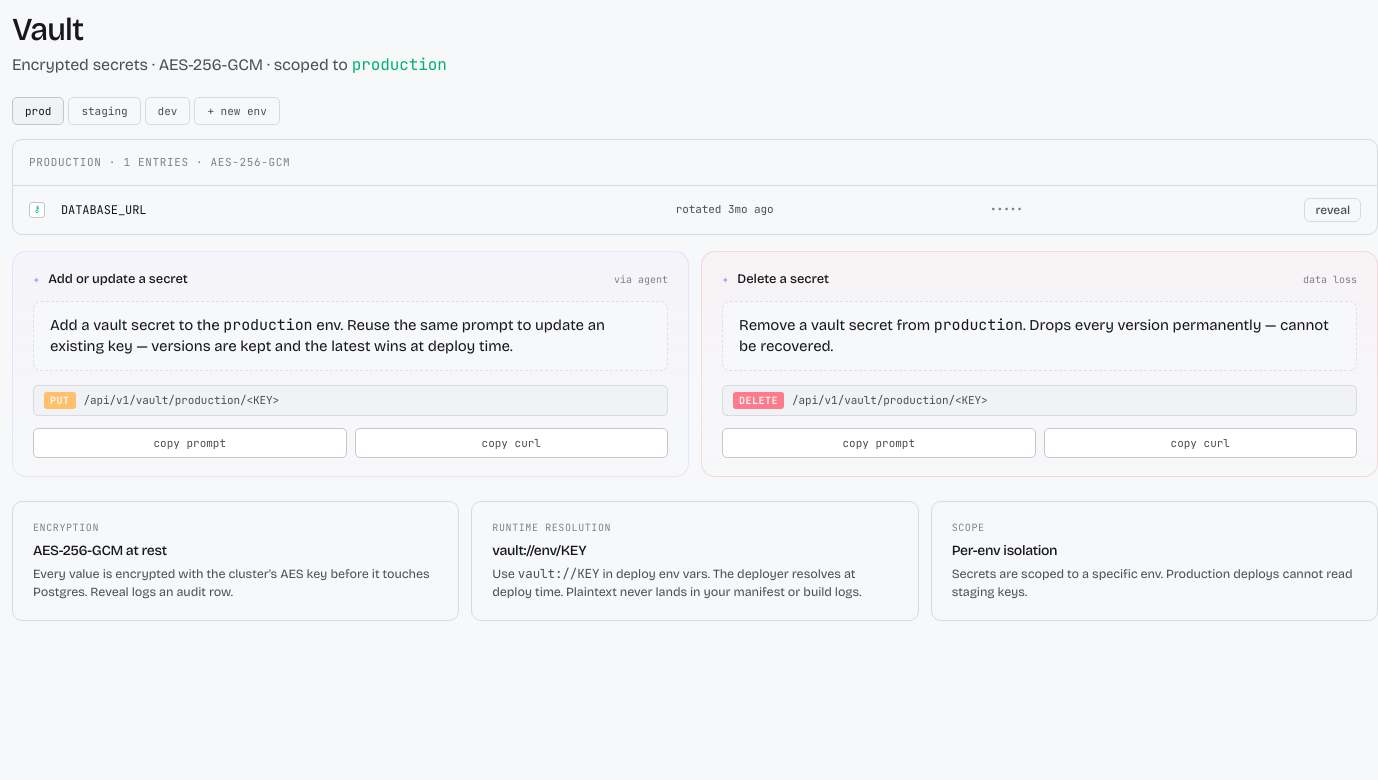
Scenario: VaultPage › surfaces a reveal error
Click the button with test id "reveal-DATABASE_URL" at [1333, 210], box [1304,198,1361,222]
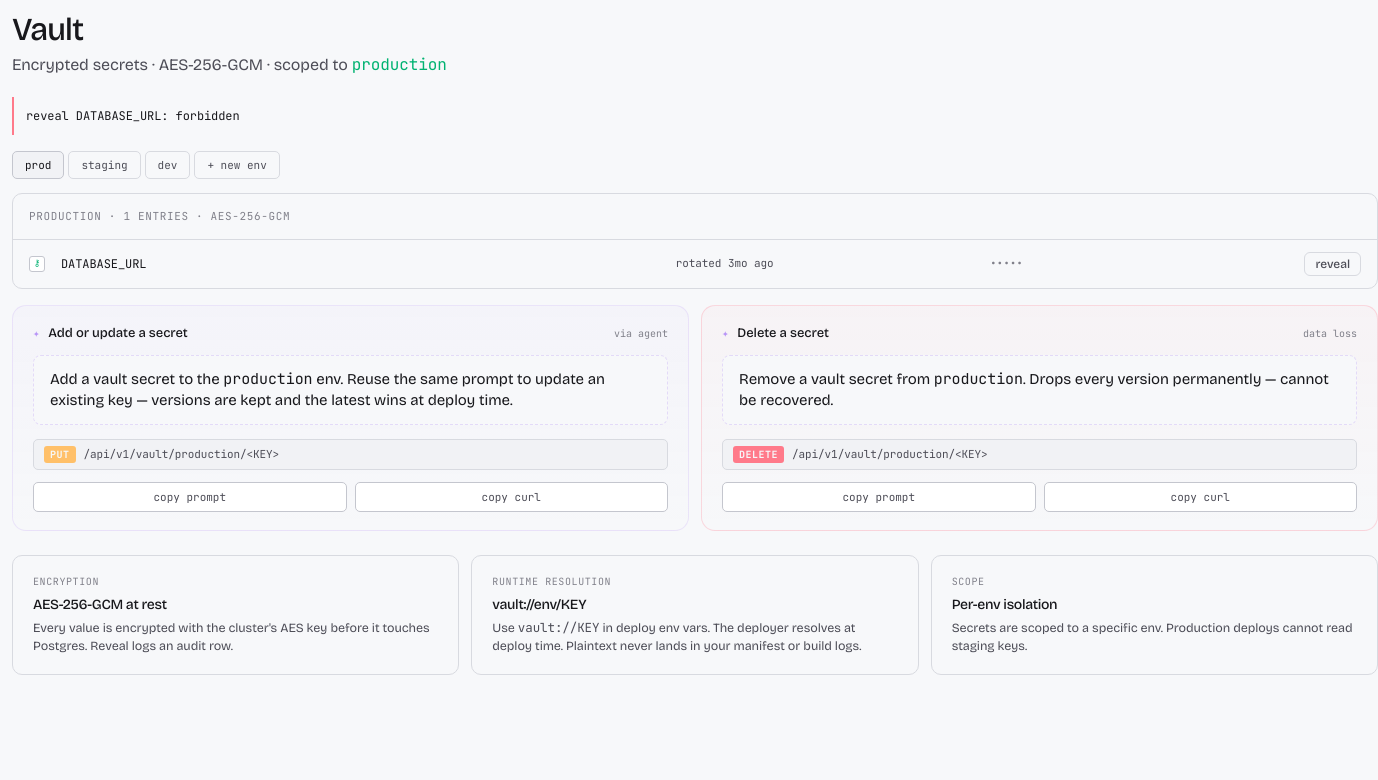
Now the text "reveal DATABASE_URL: forbidden" is shown, box [12,97,1377,135]
